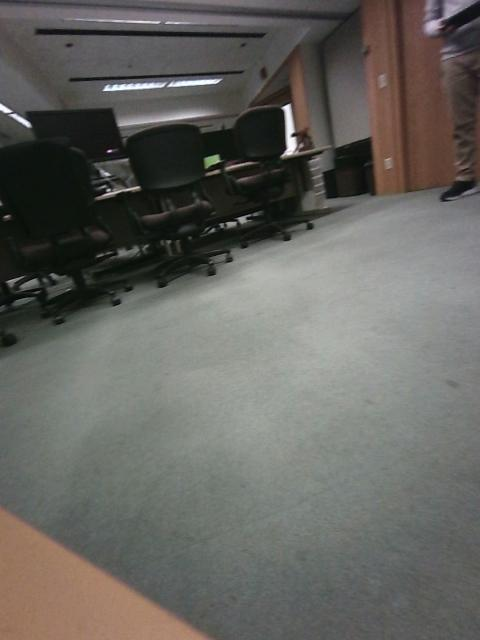block: (121, 470, 228, 579)
